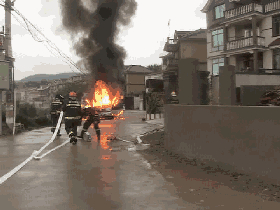smoke: (60, 1, 133, 80)
